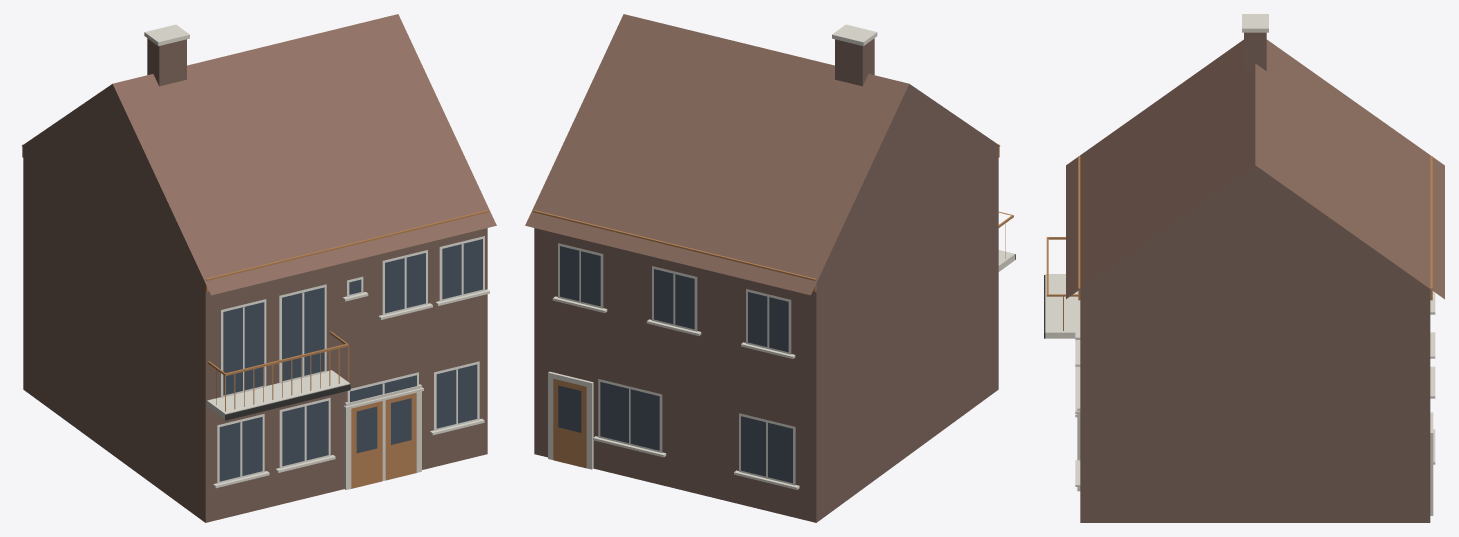
File: oo-ta-side__orange__2__gable__long__solid.glb
3 renders of one model, left to right at view 1: azimuth 30°, elevation 25°; view 2: azimuth 150°, elevation 25°; view 3: azimuth 270°, elevation 25°, orthographic. The views are drawn at different scales.
Visible parts, largest first — view 1: oo-ta-side__orange__2__gable__long__solid; view 2: oo-ta-side__orange__2__gable__long__solid; view 3: oo-ta-side__orange__2__gable__long__solid.
Part boxes in pixels (x1,y1,x2,y2): oo-ta-side__orange__2__gable__long__solid: [22, 14, 496, 522]; oo-ta-side__orange__2__gable__long__solid: [525, 14, 1015, 522]; oo-ta-side__orange__2__gable__long__solid: [1044, 14, 1444, 522].
Size of the model in its own units: 7.69 by 10.54 by 9.72.
